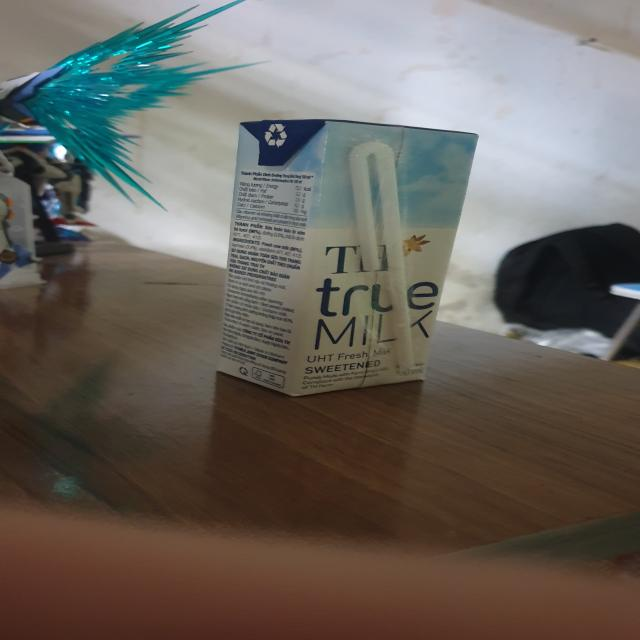TH: (207, 117, 488, 402)
